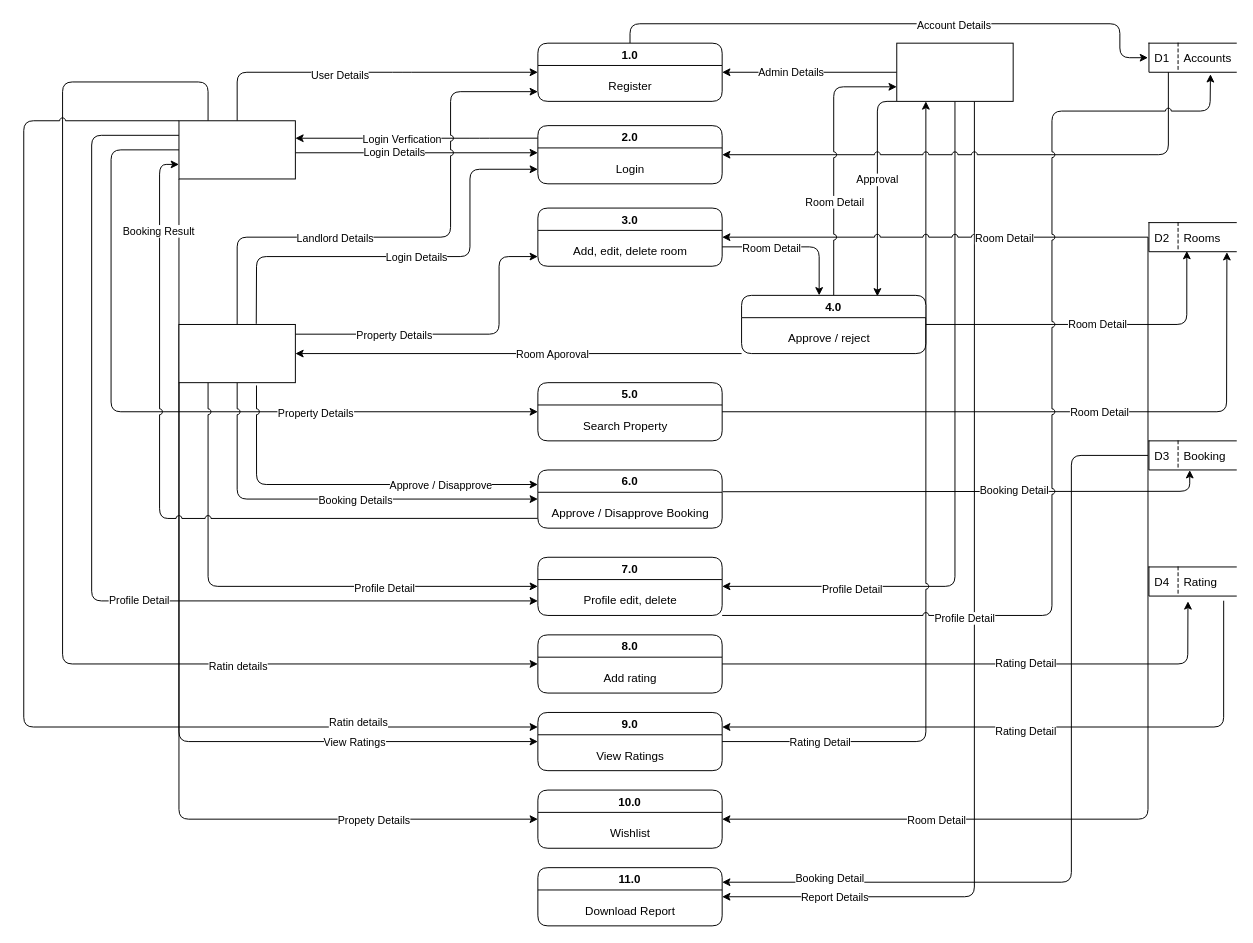
This 1253x943 diagram has some shape labels left out. The shapes that lost their labels are listed below. From the top down, each one's centre as x and y in pixels, then its label:
the point at 954,71: Admin
the point at 236,149: User
the point at 236,353: Landlord
